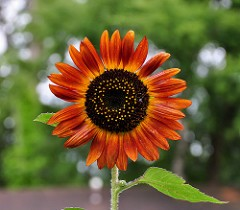flower: (39, 24, 193, 183)
